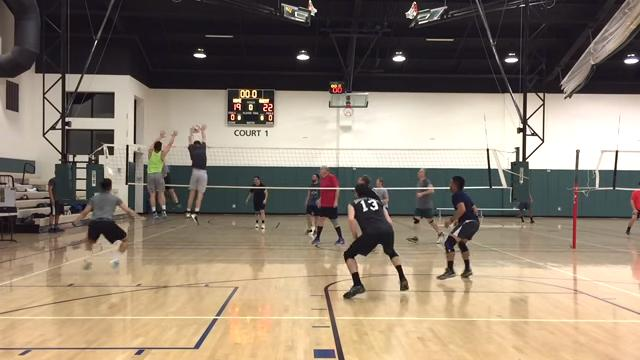attacco: (159, 160, 180, 215)
muro: (140, 127, 176, 222), (184, 118, 208, 224)
